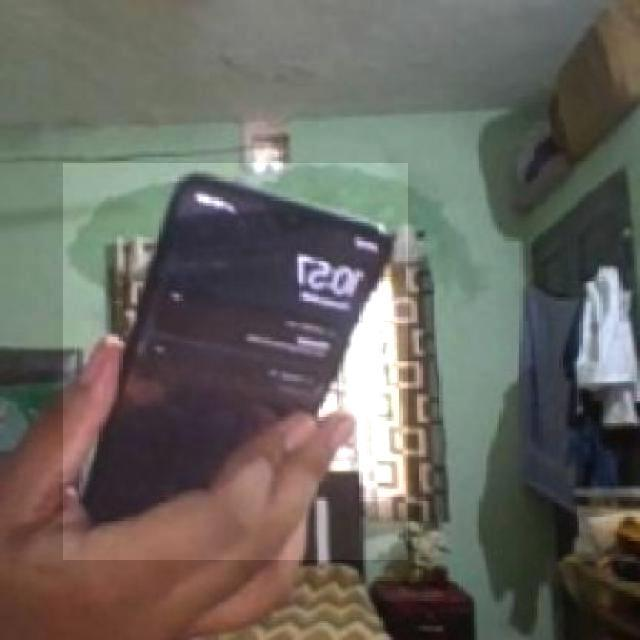mobile: (63, 163, 408, 560)
